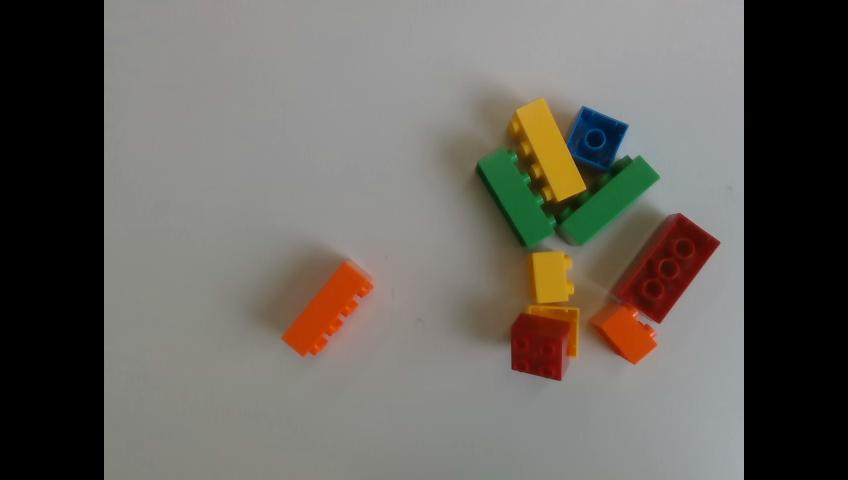2x2_blue: (563, 107, 627, 171)
2x2_orange: (590, 301, 660, 365)
2x2_red: (511, 313, 570, 382)
2x2_yellow: (528, 305, 581, 359), (527, 252, 576, 303)
4x2_green: (556, 154, 659, 251), (475, 149, 556, 247)
4x2_orange: (277, 257, 375, 361)
4x2_red: (611, 210, 721, 323)
4x2_yellow: (507, 97, 587, 203)
